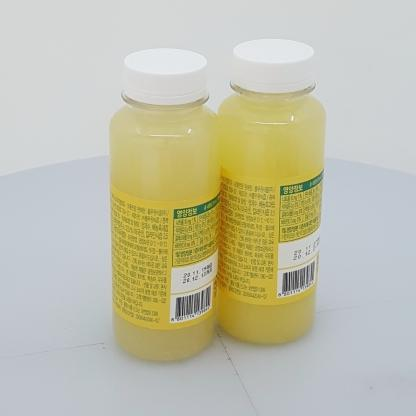----------------270ML: (109, 47, 220, 362), (216, 38, 326, 345)
